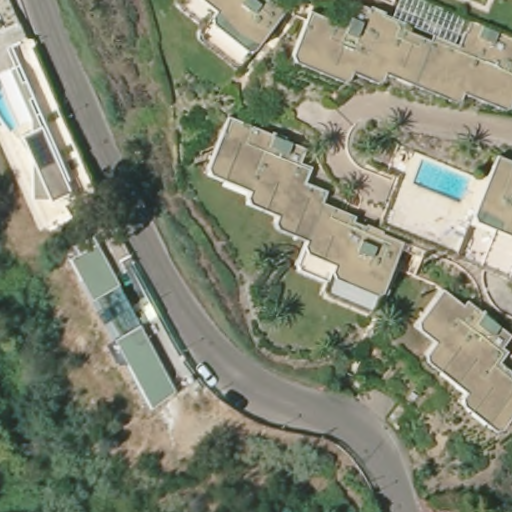pool: (411, 153, 473, 203), (1, 77, 25, 136)
